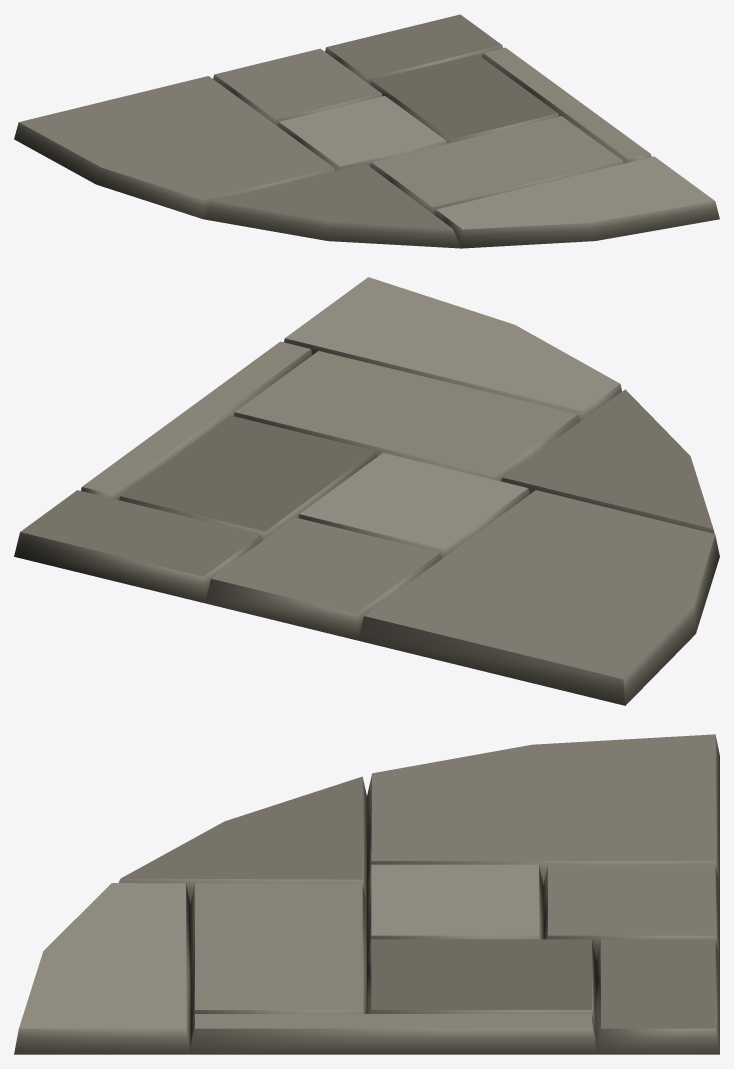
Rendered from Pavement_Rounded_2E_8X8.fbx.
The picture shows the model from 3 angles, top to bottom: view 1: azimuth 30°, elevation 25°; view 2: azimuth 150°, elevation 25°; view 3: azimuth 270°, elevation 25°; orthographic projection. The views are drawn at different scales.
Parts seen in each view (by area): view 1: Pavement_Rounded_2E_8X8; view 2: Pavement_Rounded_2E_8X8; view 3: Pavement_Rounded_2E_8X8.
Boxes of the visible parts, x1=… form: Pavement_Rounded_2E_8X8: x1=14, y1=14, x2=719, y2=248; Pavement_Rounded_2E_8X8: x1=14, y1=277, x2=719, y2=705; Pavement_Rounded_2E_8X8: x1=14, y1=734, x2=719, y2=1054.
Bounding box in the file's own units: 800 × 30 × 800.
